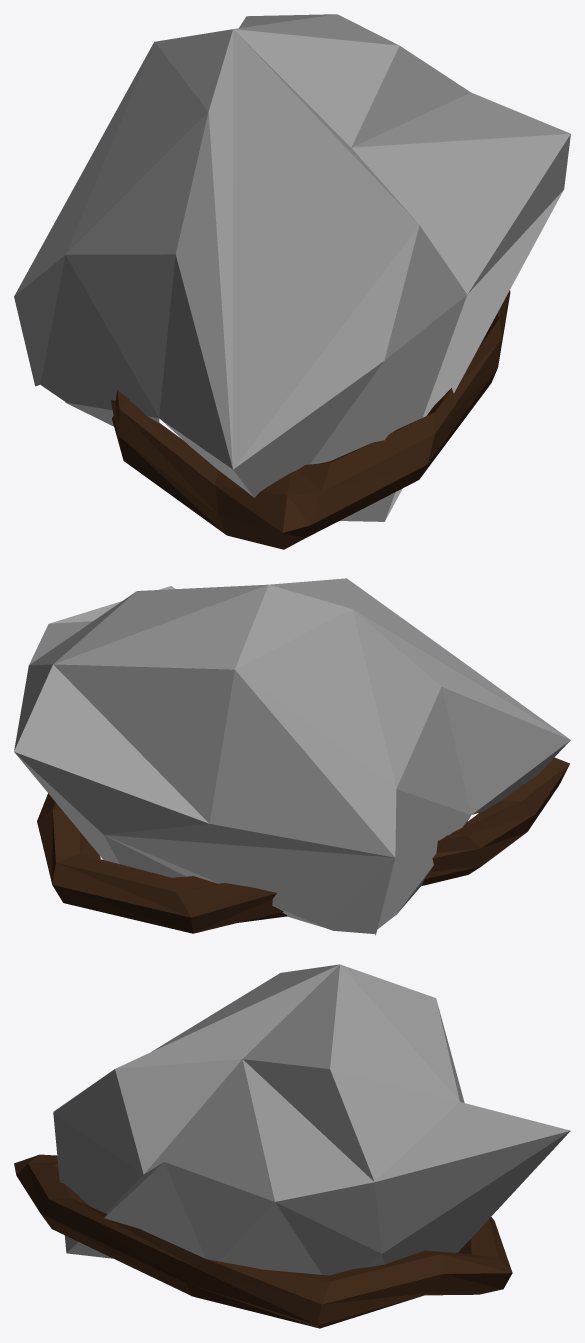
File: rock1.FBX
The picture shows the model from 3 angles, top to bottom: view 1: azimuth 30°, elevation 25°; view 2: azimuth 150°, elevation 25°; view 3: azimuth 270°, elevation 25°; orthographic projection. The views are drawn at different scales.
Parts seen in each view (by area): view 1: Hedra001, Torus001; view 2: Hedra001, Torus001; view 3: Hedra001, Torus001.
Part boxes in pixels (x1,y1,x2,y2): Hedra001: (14,14,570,521); Torus001: (110,290,510,549); Hedra001: (14,578,570,935); Torus001: (37,757,569,933); Hedra001: (53,964,570,1275); Torus001: (14,1154,512,1328).
Bounding box in the file's own units: 227 × 165 × 280.
